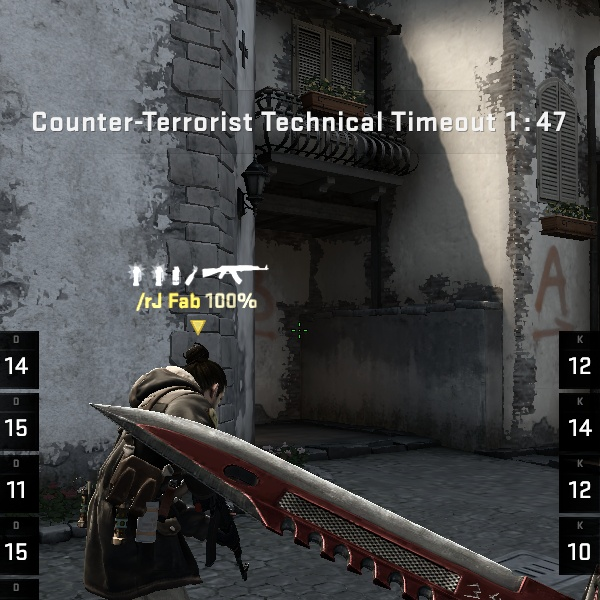ct_body: (90, 340, 280, 590)
ct_head: (133, 339, 239, 432), (163, 338, 233, 403)
